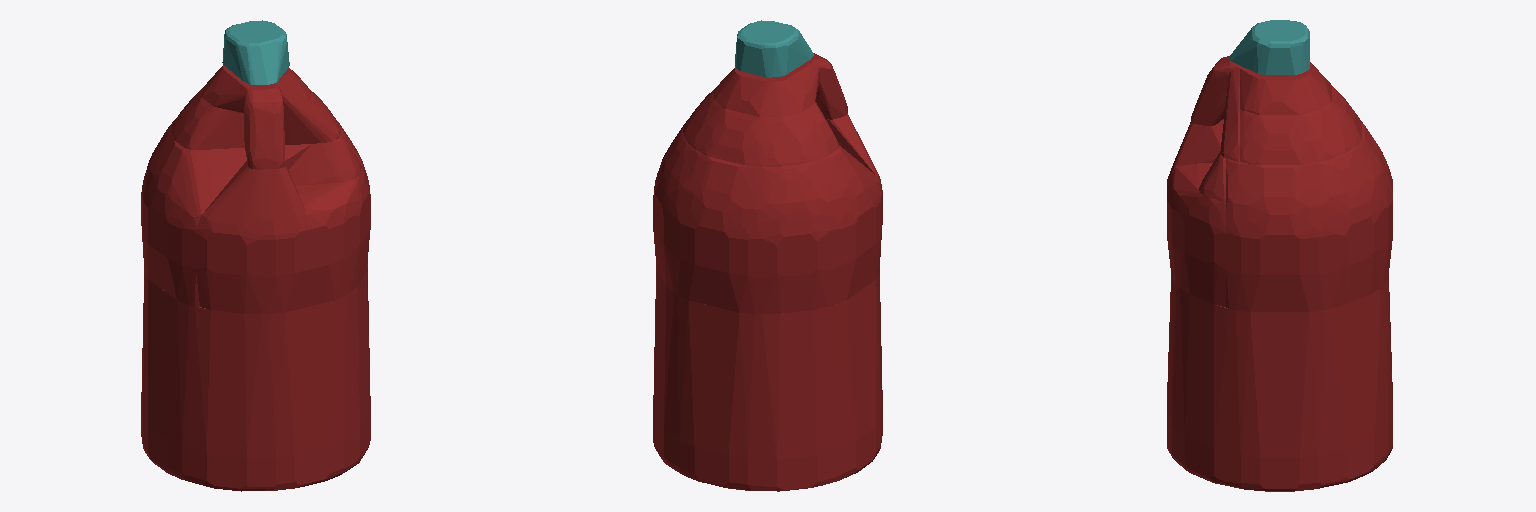
URDF robot description (root):
<robot name="root">
  <link name="bottle_body">
    <inertial>
      <origin xyz="0 0 0" rpy="0 0 0"/>
    </inertial>
    <mass value="1.00E-02"/>
    <visual>
      <origin xyz="0 0 0" rpy="0 0 0"/>
      <geometry>
        <mesh filename="core-bottle-b1e5b106e6e25c44a4530e3038c81e85-coacd_convex_piece_8.obj" scale="1.0000E-01 1.0000E-01 1.0000E-01"/>
      </geometry>
      <material name="">
        <color rgba="6.00E-01 2.00E-01 2.00E-01 1"/>
      </material>
    </visual>
    <collision>
      <origin xyz="0 0 0" rpy="0 0 0"/>
      <geometry>
        <mesh filename="core-bottle-b1e5b106e6e25c44a4530e3038c81e85-coacd_convex_piece_8.obj" scale="1.0000E-01 1.0000E-01 1.0000E-01"/>
      </geometry>
    </collision>
    <visual>
      <origin xyz="0 0 0" rpy="0 0 0"/>
      <geometry>
        <mesh filename="core-bottle-b1e5b106e6e25c44a4530e3038c81e85-coacd_convex_piece_9.obj" scale="1.0000E-01 1.0000E-01 1.0000E-01"/>
      </geometry>
      <material name="">
        <color rgba="6.00E-01 2.00E-01 2.00E-01 1"/>
      </material>
    </visual>
    <collision>
      <origin xyz="0 0 0" rpy="0 0 0"/>
      <geometry>
        <mesh filename="core-bottle-b1e5b106e6e25c44a4530e3038c81e85-coacd_convex_piece_9.obj" scale="1.0000E-01 1.0000E-01 1.0000E-01"/>
      </geometry>
    </collision>
    <visual>
      <origin xyz="0 0 0" rpy="0 0 0"/>
      <geometry>
        <mesh filename="core-bottle-b1e5b106e6e25c44a4530e3038c81e85-coacd_convex_piece_2.obj" scale="1.0000E-01 1.0000E-01 1.0000E-01"/>
      </geometry>
      <material name="">
        <color rgba="6.00E-01 2.00E-01 2.00E-01 1"/>
      </material>
    </visual>
    <collision>
      <origin xyz="0 0 0" rpy="0 0 0"/>
      <geometry>
        <mesh filename="core-bottle-b1e5b106e6e25c44a4530e3038c81e85-coacd_convex_piece_2.obj" scale="1.0000E-01 1.0000E-01 1.0000E-01"/>
      </geometry>
    </collision>
    <visual>
      <origin xyz="0 0 0" rpy="0 0 0"/>
      <geometry>
        <mesh filename="core-bottle-b1e5b106e6e25c44a4530e3038c81e85-coacd_convex_piece_6.obj" scale="1.0000E-01 1.0000E-01 1.0000E-01"/>
      </geometry>
      <material name="">
        <color rgba="6.00E-01 2.00E-01 2.00E-01 1"/>
      </material>
    </visual>
    <collision>
      <origin xyz="0 0 0" rpy="0 0 0"/>
      <geometry>
        <mesh filename="core-bottle-b1e5b106e6e25c44a4530e3038c81e85-coacd_convex_piece_6.obj" scale="1.0000E-01 1.0000E-01 1.0000E-01"/>
      </geometry>
    </collision>
    <visual>
      <origin xyz="0 0 0" rpy="0 0 0"/>
      <geometry>
        <mesh filename="core-bottle-b1e5b106e6e25c44a4530e3038c81e85-coacd_convex_piece_7.obj" scale="1.0000E-01 1.0000E-01 1.0000E-01"/>
      </geometry>
      <material name="">
        <color rgba="6.00E-01 2.00E-01 2.00E-01 1"/>
      </material>
    </visual>
    <collision>
      <origin xyz="0 0 0" rpy="0 0 0"/>
      <geometry>
        <mesh filename="core-bottle-b1e5b106e6e25c44a4530e3038c81e85-coacd_convex_piece_7.obj" scale="1.0000E-01 1.0000E-01 1.0000E-01"/>
      </geometry>
    </collision>
    <visual>
      <origin xyz="0 0 0" rpy="0 0 0"/>
      <geometry>
        <mesh filename="core-bottle-b1e5b106e6e25c44a4530e3038c81e85-coacd_convex_piece_3.obj" scale="1.0000E-01 1.0000E-01 1.0000E-01"/>
      </geometry>
      <material name="">
        <color rgba="6.00E-01 2.00E-01 2.00E-01 1"/>
      </material>
    </visual>
    <collision>
      <origin xyz="0 0 0" rpy="0 0 0"/>
      <geometry>
        <mesh filename="core-bottle-b1e5b106e6e25c44a4530e3038c81e85-coacd_convex_piece_3.obj" scale="1.0000E-01 1.0000E-01 1.0000E-01"/>
      </geometry>
    </collision>
    <visual>
      <origin xyz="0 0 0" rpy="0 0 0"/>
      <geometry>
        <mesh filename="core-bottle-b1e5b106e6e25c44a4530e3038c81e85-coacd_convex_piece_0.obj" scale="1.0000E-01 1.0000E-01 1.0000E-01"/>
      </geometry>
      <material name="">
        <color rgba="6.00E-01 2.00E-01 2.00E-01 1"/>
      </material>
    </visual>
    <collision>
      <origin xyz="0 0 0" rpy="0 0 0"/>
      <geometry>
        <mesh filename="core-bottle-b1e5b106e6e25c44a4530e3038c81e85-coacd_convex_piece_0.obj" scale="1.0000E-01 1.0000E-01 1.0000E-01"/>
      </geometry>
    </collision>
    <visual>
      <origin xyz="0 0 0" rpy="0 0 0"/>
      <geometry>
        <mesh filename="core-bottle-b1e5b106e6e25c44a4530e3038c81e85-coacd_convex_piece_5.obj" scale="1.0000E-01 1.0000E-01 1.0000E-01"/>
      </geometry>
      <material name="">
        <color rgba="6.00E-01 2.00E-01 2.00E-01 1"/>
      </material>
    </visual>
    <collision>
      <origin xyz="0 0 0" rpy="0 0 0"/>
      <geometry>
        <mesh filename="core-bottle-b1e5b106e6e25c44a4530e3038c81e85-coacd_convex_piece_5.obj" scale="1.0000E-01 1.0000E-01 1.0000E-01"/>
      </geometry>
    </collision>
    <visual>
      <origin xyz="0 0 0" rpy="0 0 0"/>
      <geometry>
        <mesh filename="core-bottle-b1e5b106e6e25c44a4530e3038c81e85-coacd_convex_piece_4.obj" scale="1.0000E-01 1.0000E-01 1.0000E-01"/>
      </geometry>
      <material name="">
        <color rgba="6.00E-01 2.00E-01 2.00E-01 1"/>
      </material>
    </visual>
    <collision>
      <origin xyz="0 0 0" rpy="0 0 0"/>
      <geometry>
        <mesh filename="core-bottle-b1e5b106e6e25c44a4530e3038c81e85-coacd_convex_piece_4.obj" scale="1.0000E-01 1.0000E-01 1.0000E-01"/>
      </geometry>
    </collision>
  </link>
  <link name="bottle_cap">
    <origin xyz="0 0 0.002" rpy="0 0 0"/>
    <mass value="1.00E-02"/>
    <visual>
      <origin xyz="0 0 0.002" rpy="0 0 0"/>
      <geometry>
        <mesh filename="core-bottle-b1e5b106e6e25c44a4530e3038c81e85-coacd_convex_piece_1.obj" scale="1.0000E-01 1.0000E-01 1.0000E-01"/>
      </geometry>
      <material name="">
        <color rgba="3.00E-01 6.00E-01 6.00E-01 1"/>
      </material>
    </visual>
    <collision>
      <origin xyz="0 0 0.002" rpy="0 0 0"/>
      <geometry>
        <mesh filename="core-bottle-b1e5b106e6e25c44a4530e3038c81e85-coacd_convex_piece_1.obj" scale="1.0000E-01 1.0000E-01 1.0000E-01"/>
      </geometry>
    </collision>
  </link>
  <joint name="bottle_cap_joint" type="revolute">
    <origin xyz="0 0 0" rpy="0 0 0"/>
    <parent link="bottle_body"/>
    <child link="bottle_cap"/>
    <axis xyz="0 0 1"/>
    <limit lower="0.00" upper="6.28"/>
    <dynamics damping="0.05"/>
  </joint>
</robot>

--- Render facts (derived) ---
Views: 3 orthographic renders of the robot side by side, from view 1: azimuth 30°, elevation 25°; view 2: azimuth 150°, elevation 25°; view 3: azimuth 270°, elevation 25°.
Robot: root — 2 links, 1 joints (1 revolute); root link bottle_body; default pose: all joints at 0.
Visible links, largest first — view 1: bottle_body, bottle_cap; view 2: bottle_body, bottle_cap; view 3: bottle_body, bottle_cap.
Boxes of the visible links, <box> form: bottle_body: <box>141,65,370,491</box>; bottle_cap: <box>222,20,289,84</box>; bottle_body: <box>653,53,882,491</box>; bottle_cap: <box>735,20,813,77</box>; bottle_body: <box>1167,56,1392,491</box>; bottle_cap: <box>1230,20,1309,74</box>.
Bounding box of the posed robot: 0.0882 × 0.0882 × 0.1785 m (x, y, z).
10 mesh visuals loaded from 10 distinct referenced files (10 OBJ).